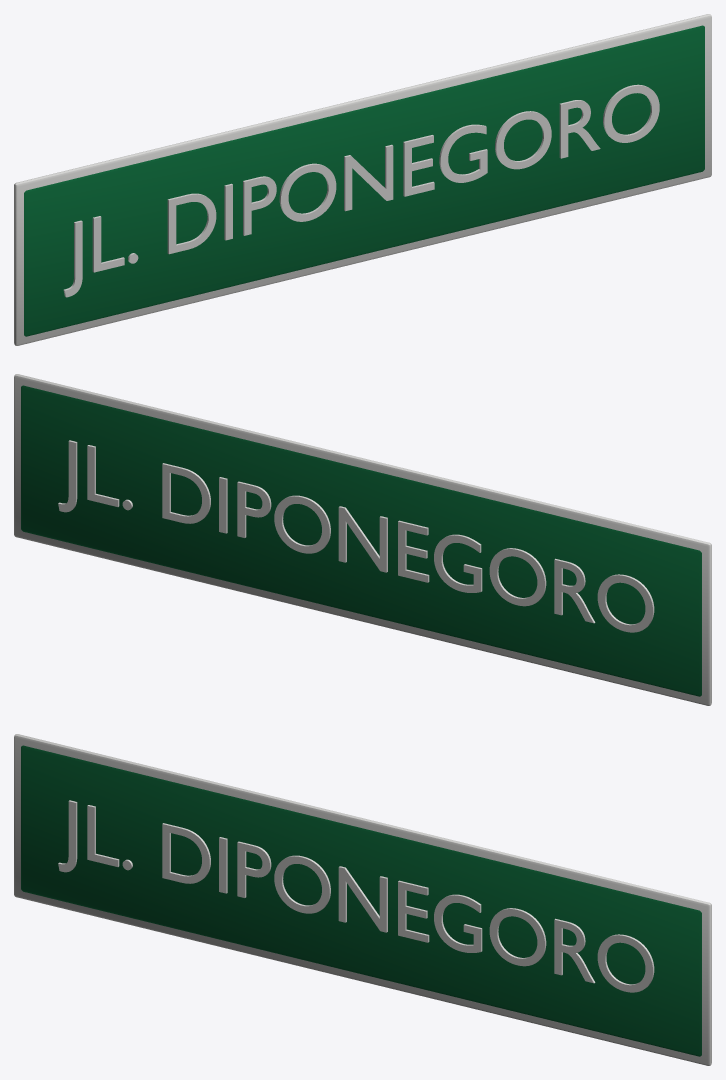
The model's file is StreetName_diponegoro.fbx.
The picture shows the model from 3 angles, top to bottom: view 1: azimuth 30°, elevation 25°; view 2: azimuth 150°, elevation 25°; view 3: azimuth 330°, elevation 25°; orthographic projection.
Parts seen in each view (by area): view 1: StreetName_diponegoro_Mesh; view 2: StreetName_diponegoro_Mesh; view 3: StreetName_diponegoro_Mesh.
Part boxes in pixels (x1,y1,x2,y2): StreetName_diponegoro_Mesh: (14,14,711,345); StreetName_diponegoro_Mesh: (14,374,711,705); StreetName_diponegoro_Mesh: (14,734,711,1065).
Size of the model in its own units: 1.57 by 0.35 by 0.026.
